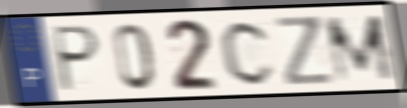0: (112, 22, 157, 92)
2: (165, 17, 220, 93)
C: (218, 18, 277, 88)
M: (322, 12, 399, 86)
P: (52, 23, 103, 95)
Z: (272, 13, 337, 88)
